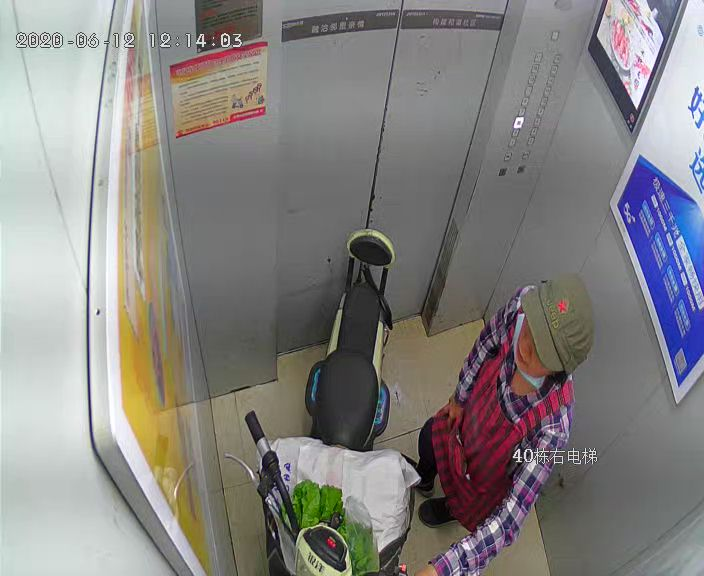Electric-bicycle: (290, 226, 399, 575)
